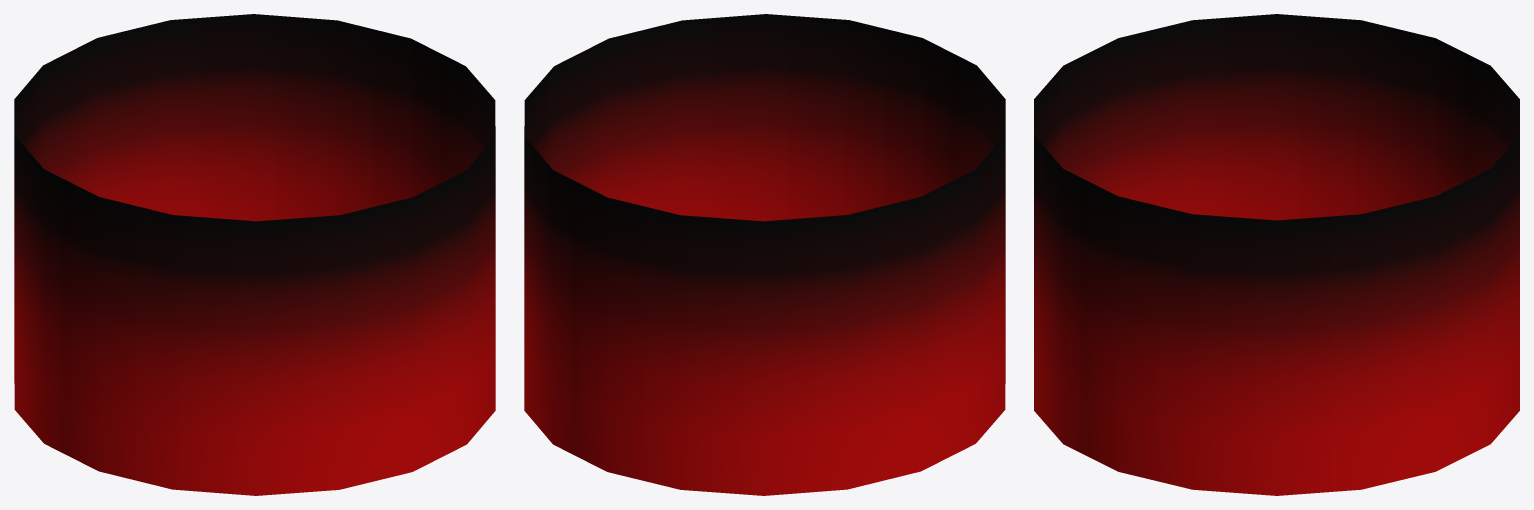
The model's file is Mesh_CylinderBeam_Large.fbx.
The picture shows the model from 3 angles, left to right: view 1: azimuth 30°, elevation 25°; view 2: azimuth 150°, elevation 25°; view 3: azimuth 270°, elevation 25°; orthographic projection.
Visible parts, largest first — view 1: Cylinder002; view 2: Cylinder002; view 3: Cylinder002.
Part boxes in pixels (bbox=[...]): Cylinder002: bbox=[14, 14, 495, 495]; Cylinder002: bbox=[524, 14, 1005, 495]; Cylinder002: bbox=[1034, 14, 1519, 495].
Bounding box in the file's own units: 241 × 240 × 150.
